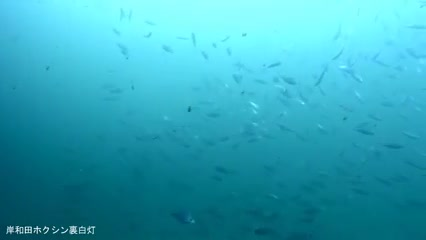smallfish: (167, 207, 201, 229)
